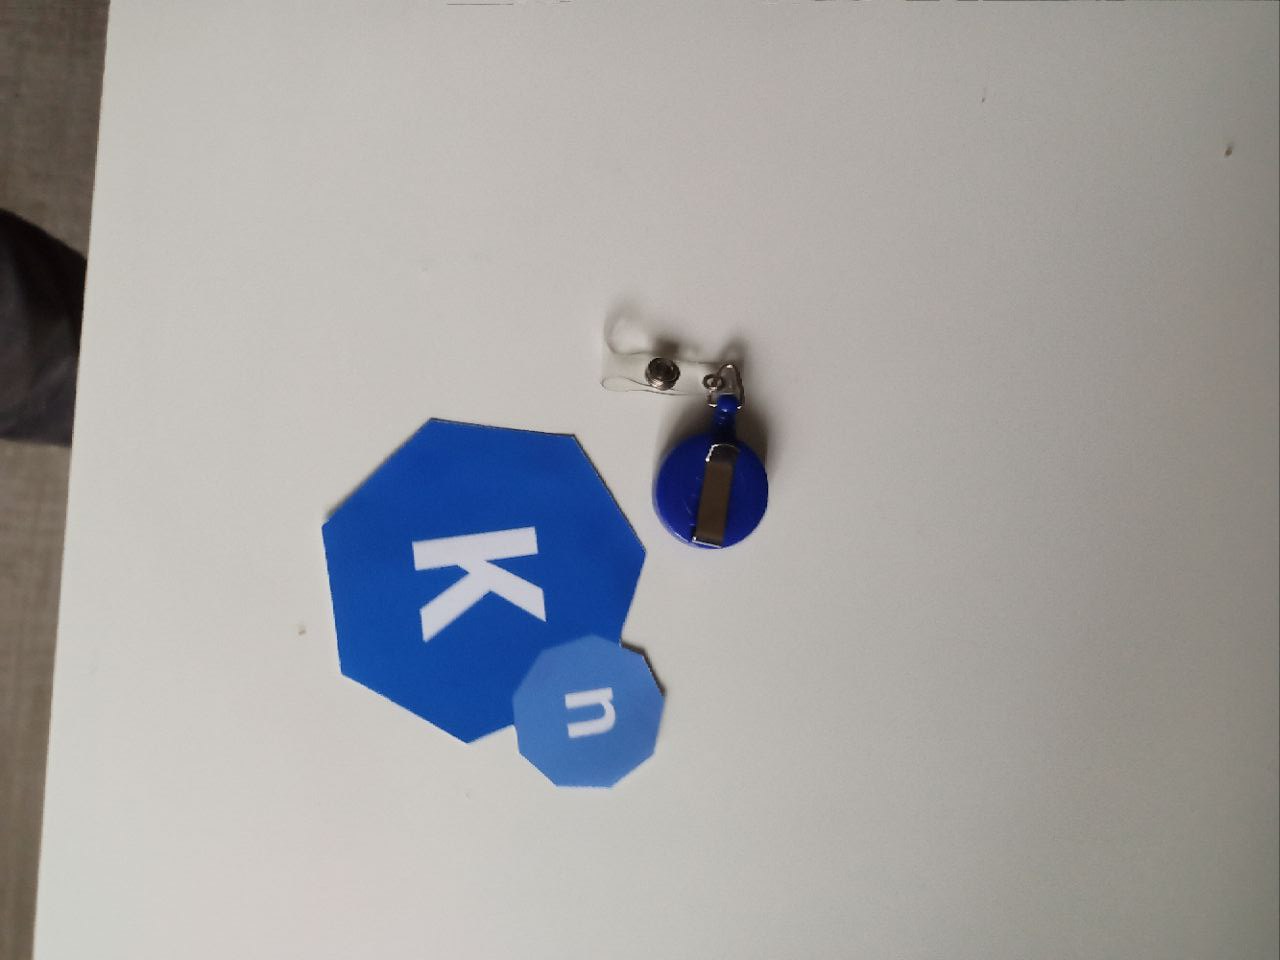knative: (318, 416, 664, 791)
